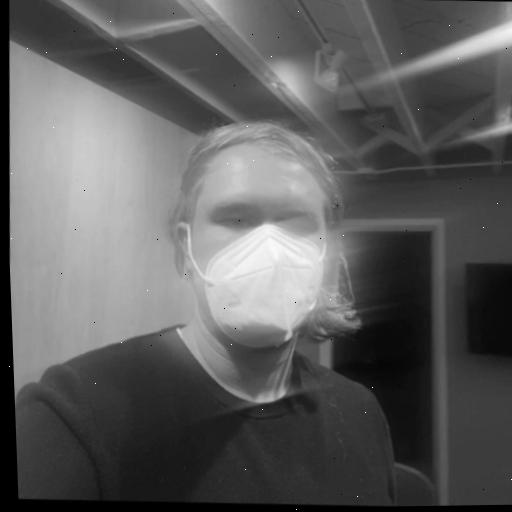mask: (154, 99, 371, 355)
